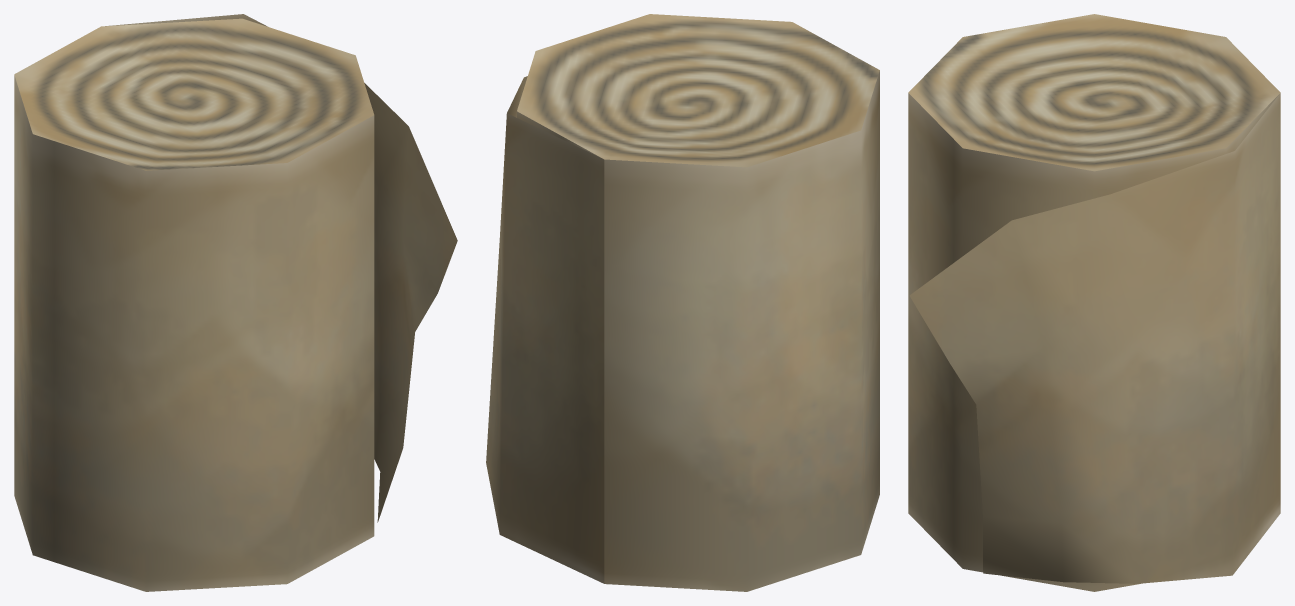
File: ITEM_gauzeBandages.fbx
The picture shows the model from 3 angles, left to right: view 1: azimuth 30°, elevation 25°; view 2: azimuth 150°, elevation 25°; view 3: azimuth 270°, elevation 25°; orthographic projection.
Parts seen in each view (by area): view 1: ITEM_gauzeBandages; view 2: ITEM_gauzeBandages; view 3: ITEM_gauzeBandages.
Boxes of the visible parts, x1,y1,x2,y2 form: ITEM_gauzeBandages: [14, 14, 457, 591]; ITEM_gauzeBandages: [486, 14, 879, 591]; ITEM_gauzeBandages: [908, 14, 1280, 591].
Size of the model in its own units: 0.068 by 0.078 by 0.0626.
